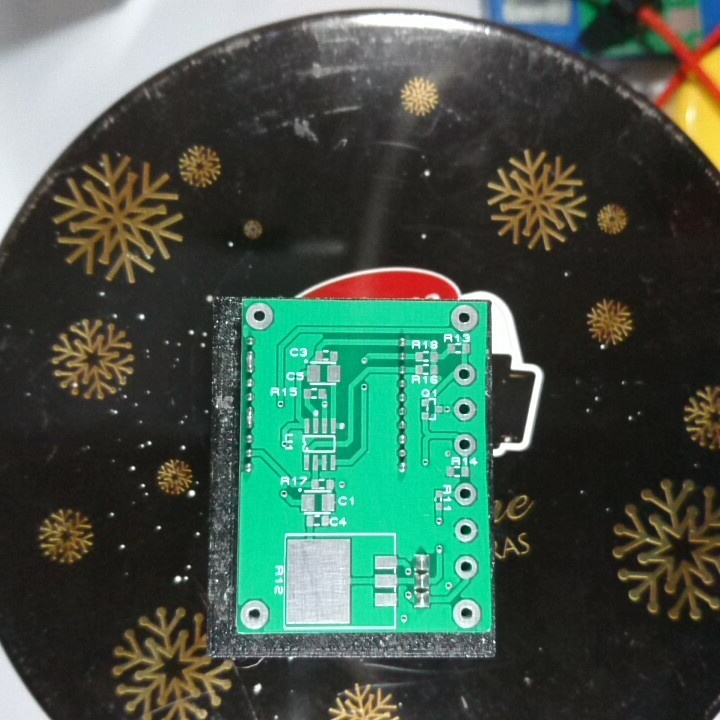F: (449, 596, 485, 631), (237, 596, 272, 632), (243, 300, 279, 332), (449, 301, 480, 333), (451, 393, 479, 426), (452, 514, 480, 545), (453, 551, 480, 582), (451, 360, 479, 389), (451, 479, 478, 509), (452, 431, 480, 458)
P: (243, 346, 260, 376), (242, 403, 259, 430)
